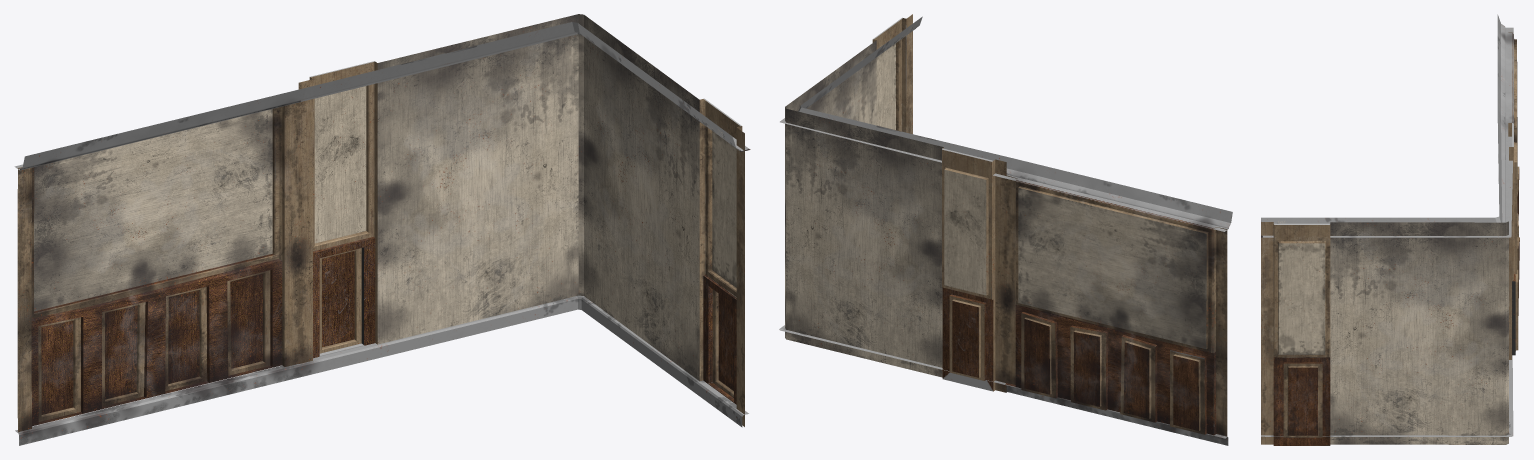
File: gd50_varun_wall_and_corner.glb
3 renders of one model, left to right at view 1: azimuth 30°, elevation 25°; view 2: azimuth 150°, elevation 25°; view 3: azimuth 270°, elevation 25°, orthographic. The views are drawn at different scales.
Parts seen in each view (by area): view 1: polySurface24, polySurface25; view 2: polySurface24, polySurface25; view 3: polySurface24, polySurface25.
Part boxes in pixels (box(x1,y1,x2,y2)): polySurface24: box(298, 14, 750, 427); polySurface25: box(14, 88, 305, 445); polySurface24: box(779, 14, 1012, 392); polySurface25: box(1004, 158, 1232, 445); polySurface24: box(1261, 118, 1518, 445); polySurface25: box(1497, 14, 1519, 315).
Size of the model in its own units: 6.14 by 3 by 3.16.
Materials: 1 (1 with a texture image).
